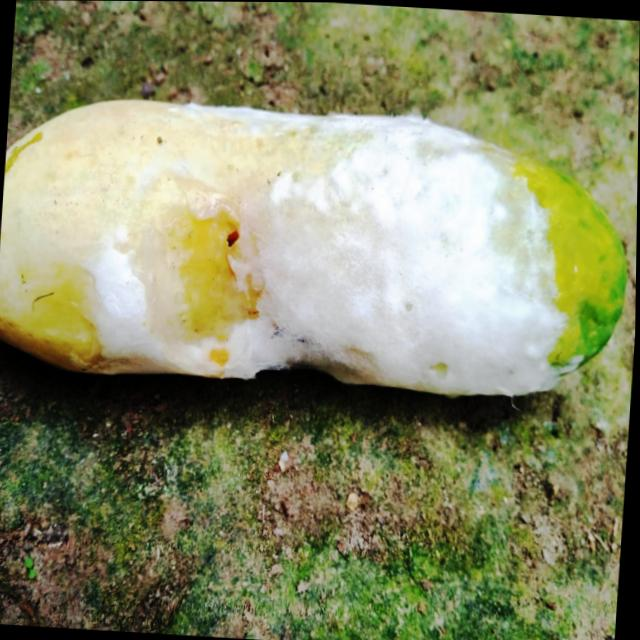Pythium-Fruit-Rot: (51, 82, 614, 414)
